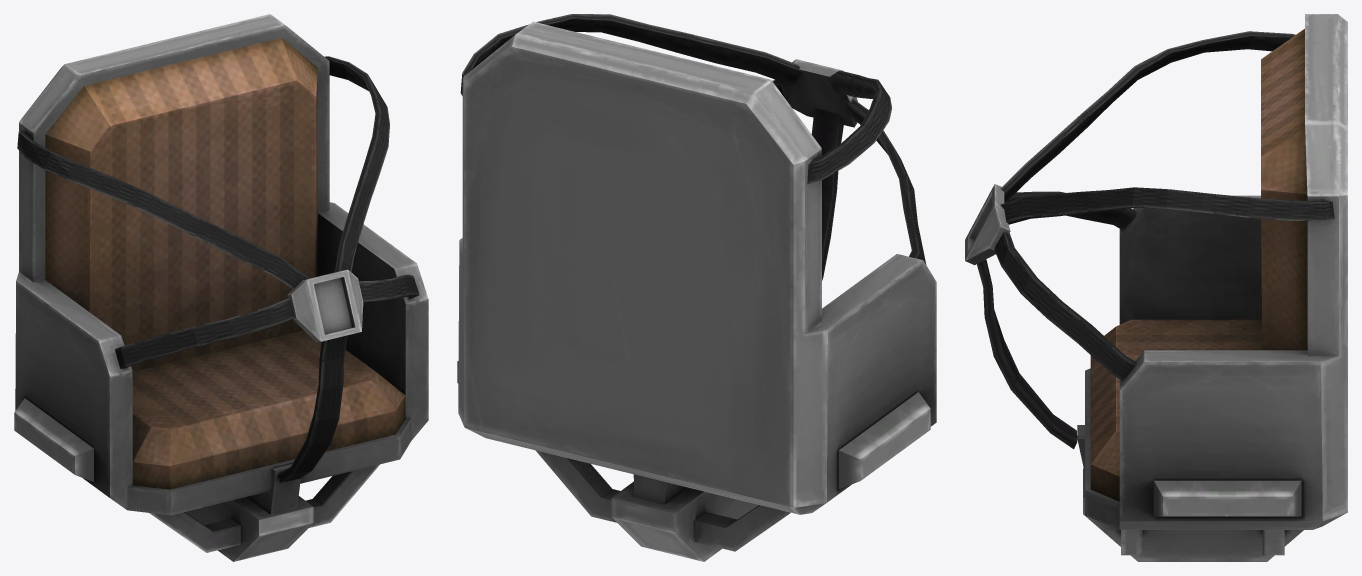
The model's file is Tantares_Prop_Seat_Passenger.obj.
The picture shows the model from 3 angles, left to right: view 1: azimuth 30°, elevation 25°; view 2: azimuth 150°, elevation 25°; view 3: azimuth 270°, elevation 25°; orthographic projection. The views are drawn at different scales.
Visible parts, largest first — view 1: Tantares_Prop_Seat_Passenger; view 2: Tantares_Prop_Seat_Passenger; view 3: Tantares_Prop_Seat_Passenger.
Boxes of the visible parts, box(x1,y1,x2,y2) form: Tantares_Prop_Seat_Passenger: box(14, 14, 428, 561); Tantares_Prop_Seat_Passenger: box(457, 14, 936, 561); Tantares_Prop_Seat_Passenger: box(965, 14, 1347, 561).
Size of the model in its own units: 0.2974 by 0.3655 by 0.2642.
Materials: 1 (1 with a texture image).
